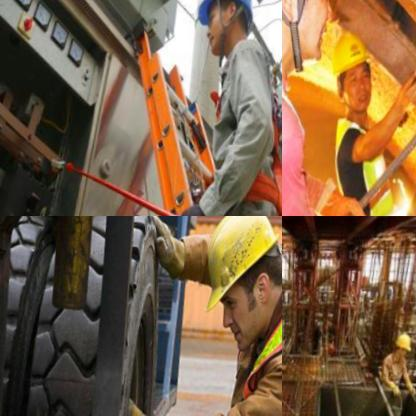helmet: (175, 216, 282, 368), (282, 0, 360, 85), (316, 23, 381, 123), (189, 0, 263, 69), (388, 334, 412, 368)
